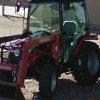Tractor: (3, 16, 100, 94)
